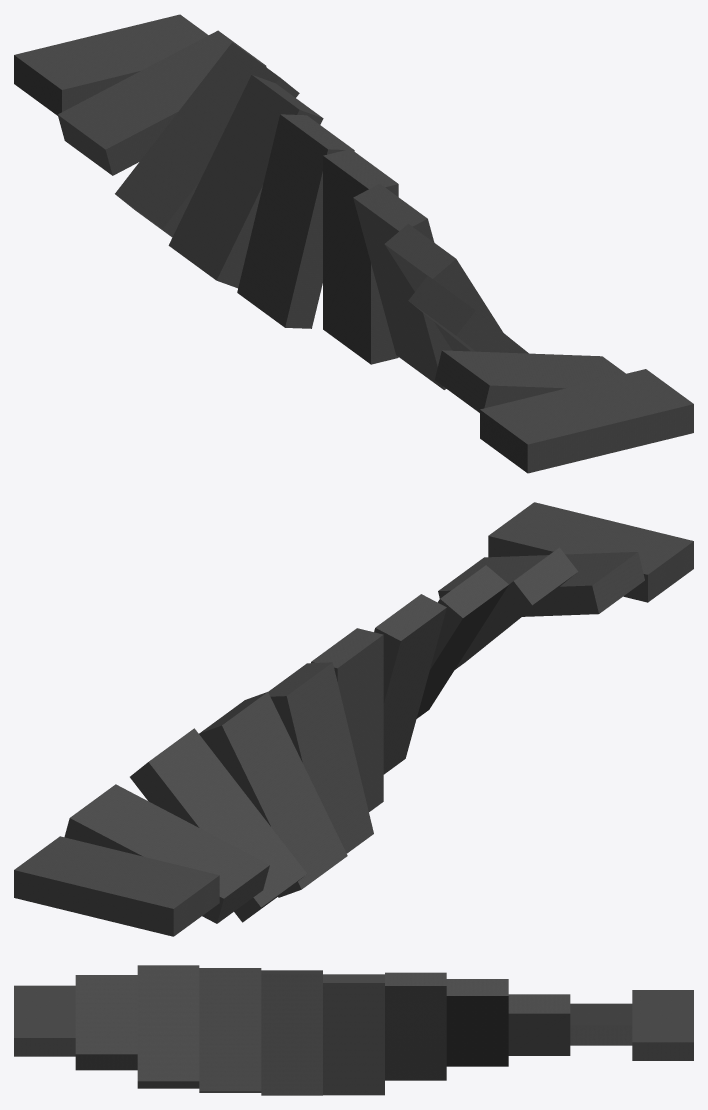
3 renders of one model, top to bottom at view 1: azimuth 30°, elevation 25°; view 2: azimuth 150°, elevation 25°; view 3: azimuth 270°, elevation 25°, orthographic. The views are drawn at different scales.
Parts seen in each view (by area): view 1: SFP_Concrete Mesh (1); view 2: SFP_Concrete Mesh (1); view 3: SFP_Concrete Mesh (1).
Part boxes in pixels (box(x1,y1,x2,y2)): SFP_Concrete Mesh (1): box(14, 14, 693, 473); SFP_Concrete Mesh (1): box(14, 502, 693, 936); SFP_Concrete Mesh (1): box(14, 965, 693, 1095).
Bounding box in the file's own units: 13 × 12.35 × 66.
